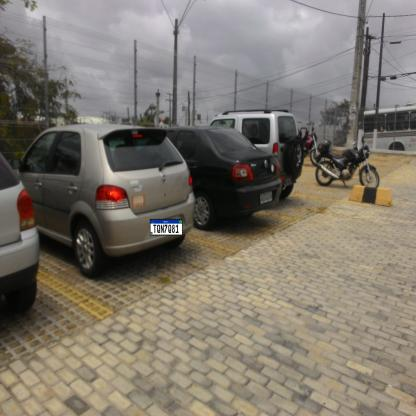PlacaM: (150, 219, 183, 235)
